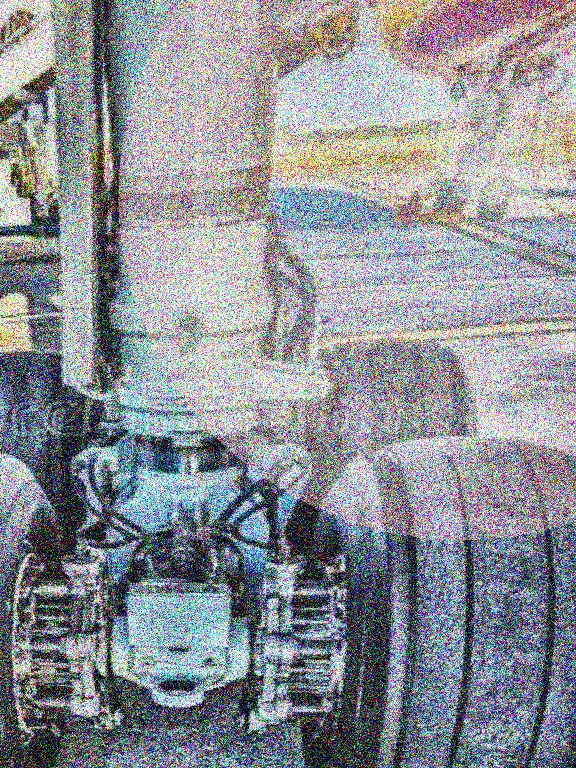chock: (426, 207, 464, 233)
wheel: (262, 414, 576, 768), (277, 321, 503, 556), (0, 420, 124, 768), (0, 338, 112, 539), (473, 172, 514, 222), (431, 174, 469, 217)
